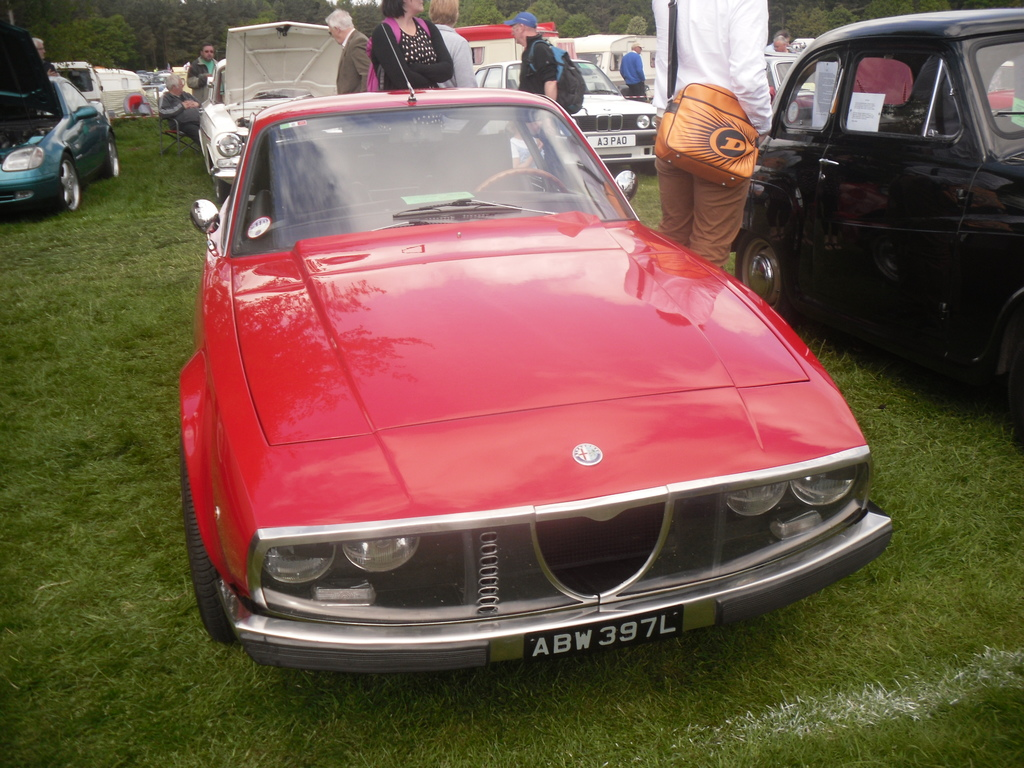Car: (182, 4, 899, 679), (733, 5, 1023, 396), (192, 14, 369, 200), (476, 57, 666, 177), (0, 80, 124, 222)
